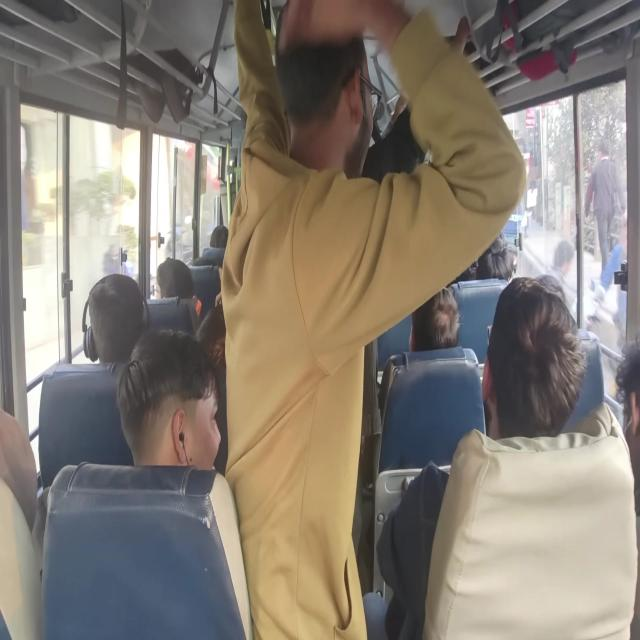person: (258, 35, 392, 285), (501, 303, 588, 447), (75, 288, 194, 388), (140, 348, 214, 475), (457, 228, 535, 311), (596, 349, 640, 496), (0, 395, 47, 514), (411, 278, 462, 362), (159, 254, 209, 338), (216, 212, 244, 266), (212, 310, 240, 355)
